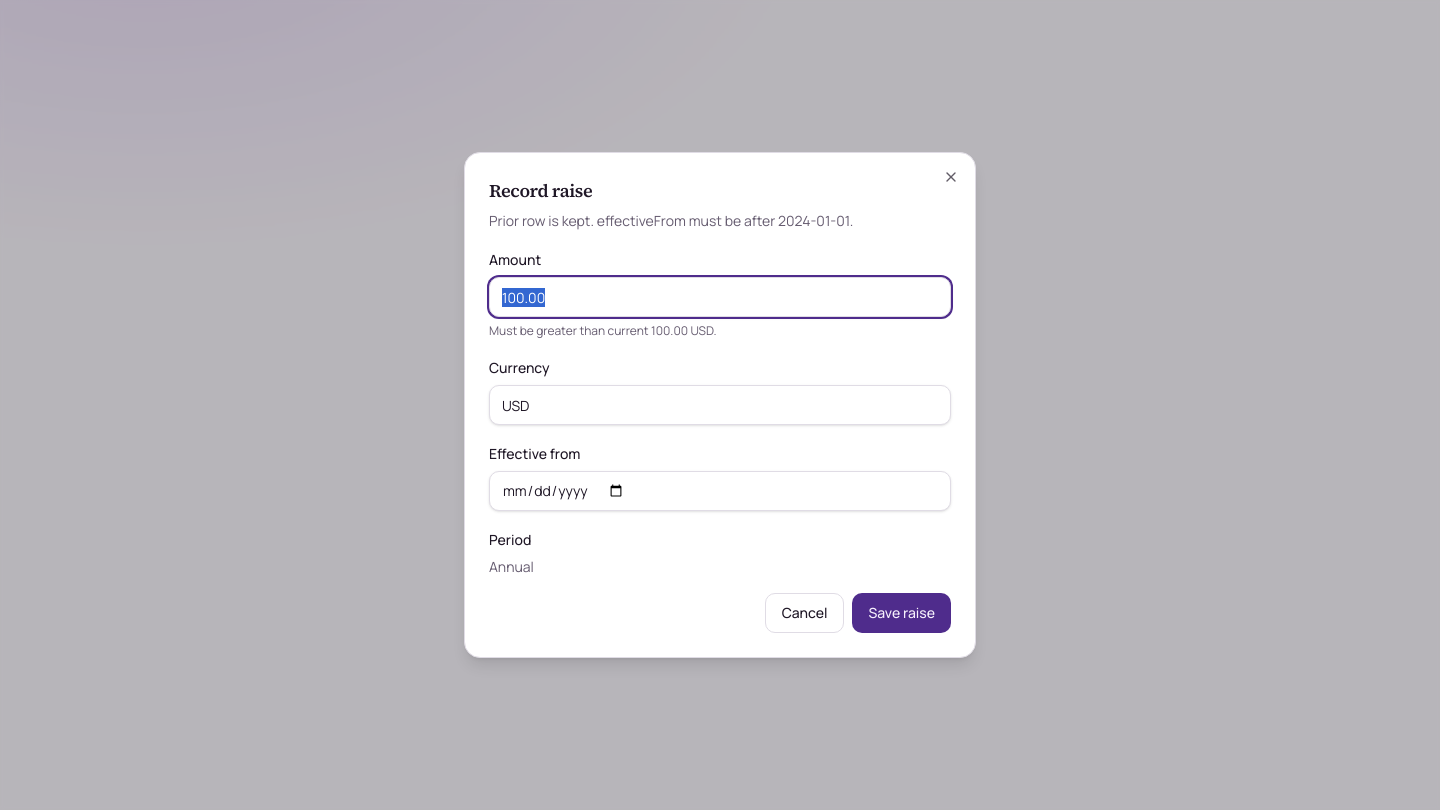
Scenario: SalaryFormDialog › maps API field details to helper text
The image size is (1440, 810).
Replace the text in the field labelled "Amount" with "200" at (720, 297), box [489,277,951,317]
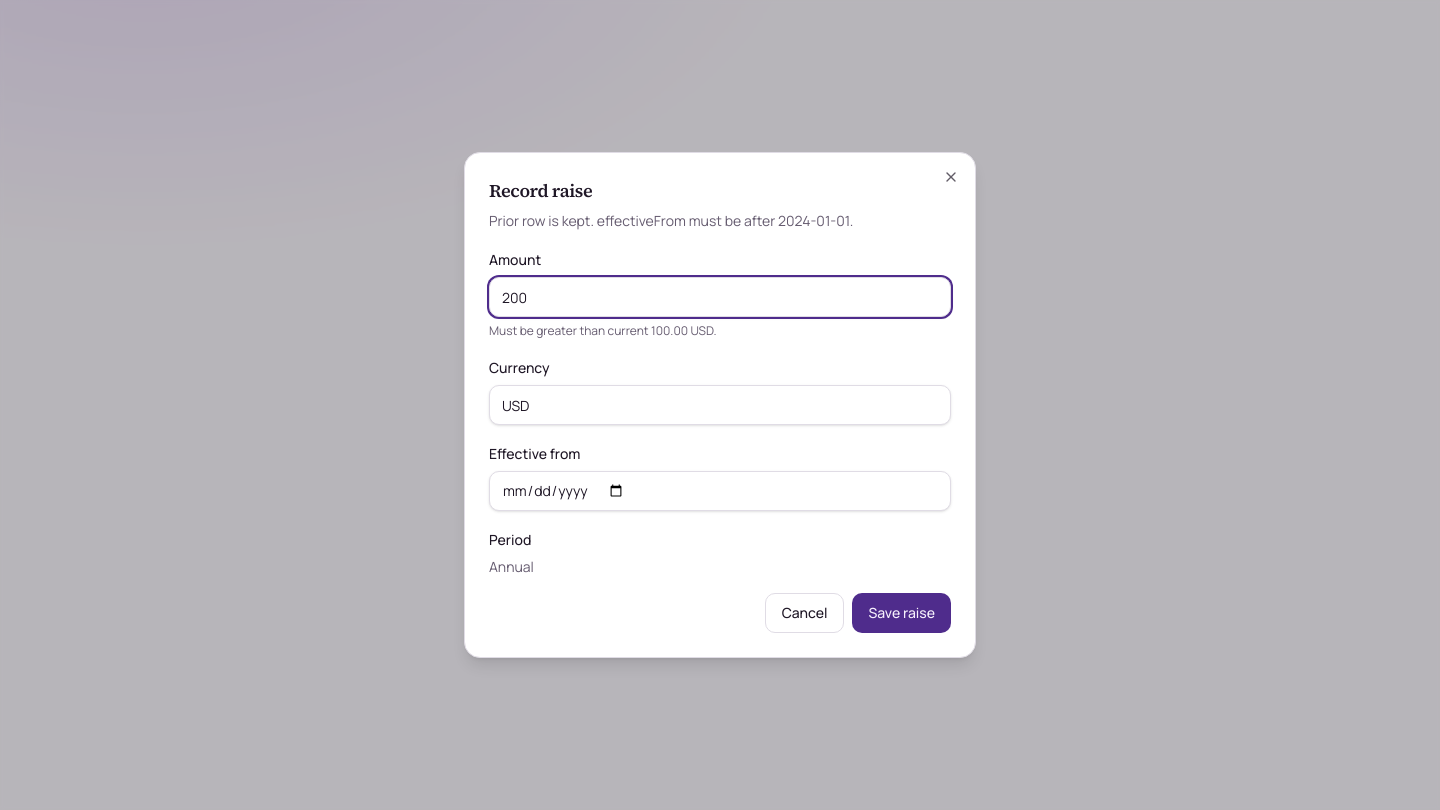
Type "2025-01-01" into the date field labelled "Effective from" at (720, 491), box [489,471,951,511]
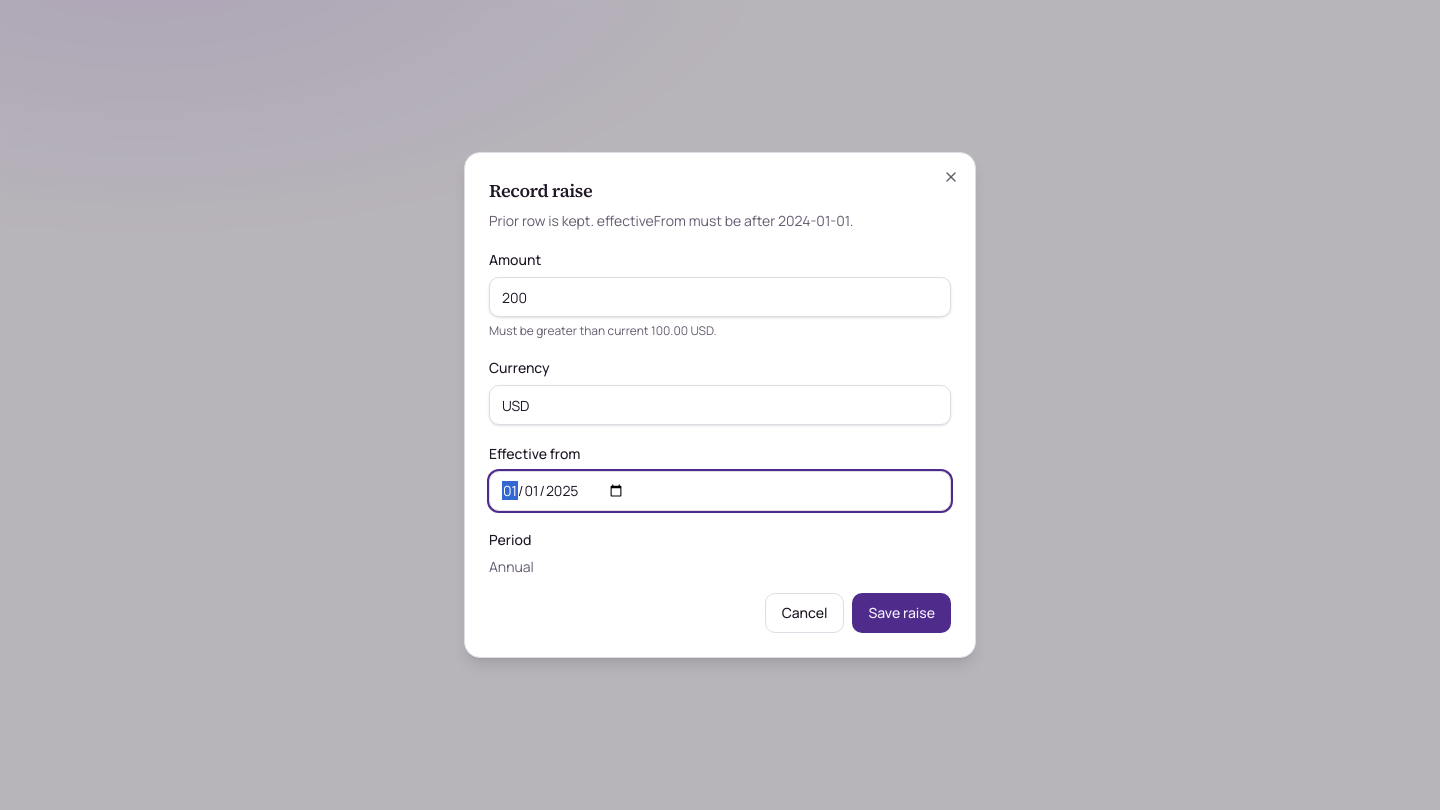
Click the button "Save raise" at (902, 613), box [852,593,951,633]
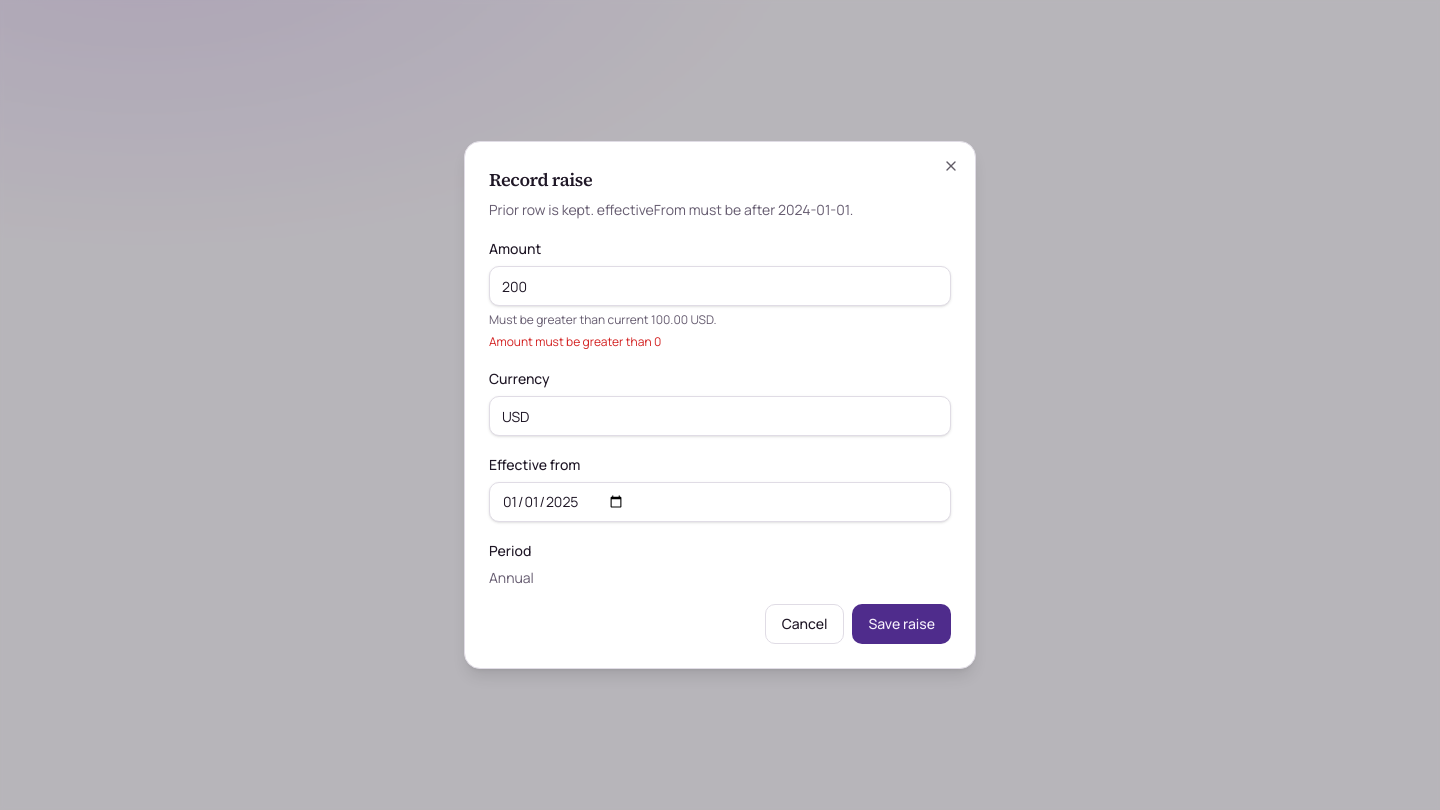
expect the text "Amount must be greater than 0" is shown: met, box [489,333,661,350]
